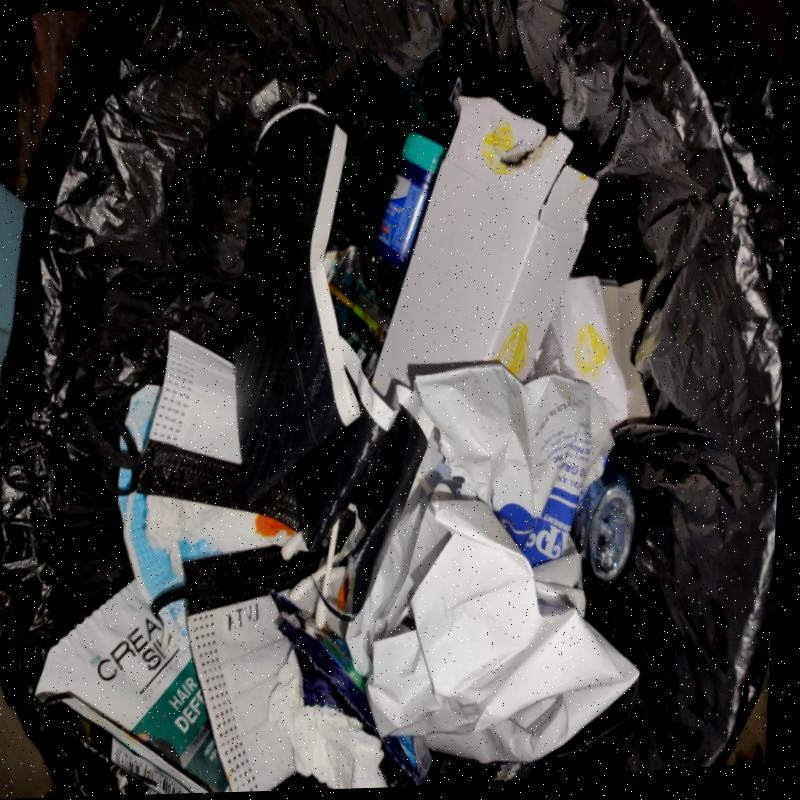cardboard: (369, 97, 600, 402), (528, 273, 650, 426)
facemask: (180, 540, 331, 792), (135, 312, 300, 531), (118, 381, 189, 646)
paper: (344, 480, 637, 766), (269, 648, 389, 789), (144, 493, 296, 573), (326, 238, 406, 382)
plastic container: (374, 130, 447, 268)
plastic sachet: (34, 580, 228, 794)
